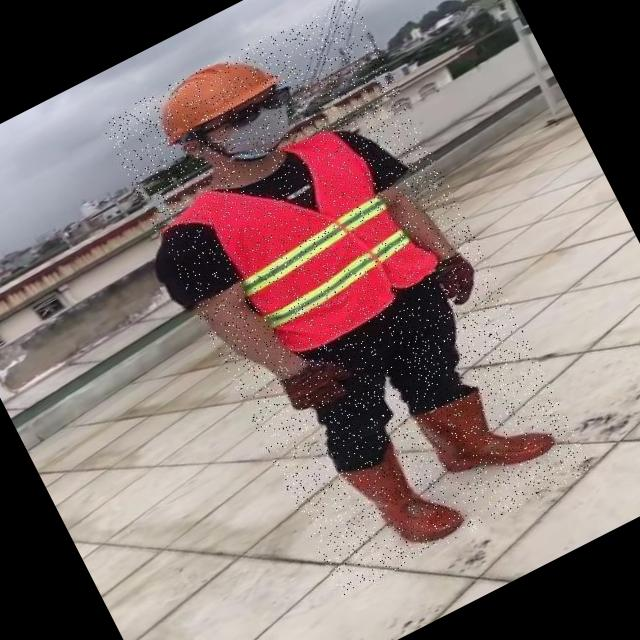hard_hat: (130, 38, 286, 156)
safety_vest: (195, 112, 447, 367)
vehicle: (101, 0, 594, 597)
work_boots: (406, 358, 558, 504), (338, 432, 468, 567)
